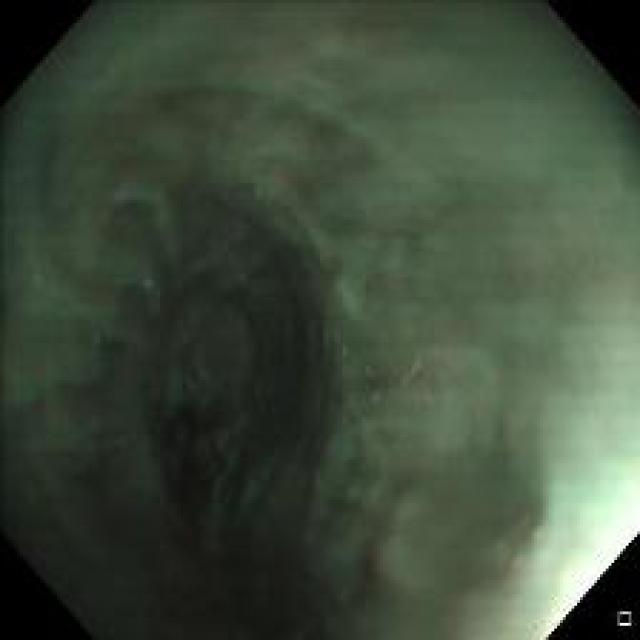blur: (41, 25, 600, 584)
contrast: (82, 301, 308, 615)
saturation: (556, 495, 636, 629)
